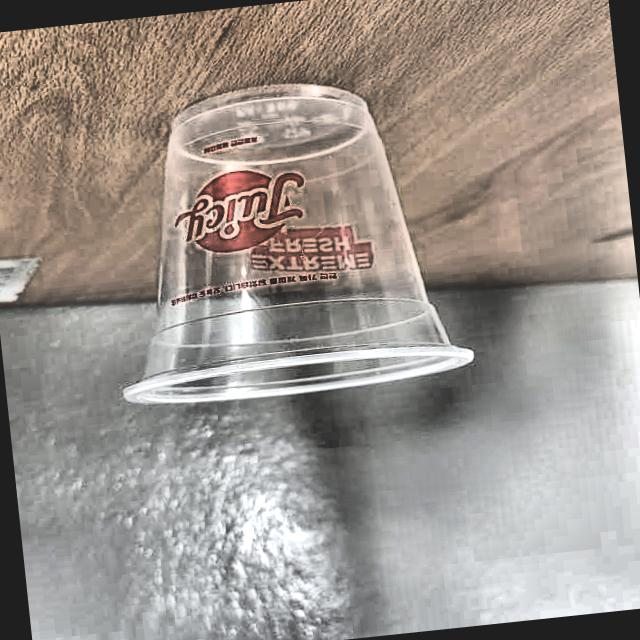plastic cup: (84, 66, 477, 413)
